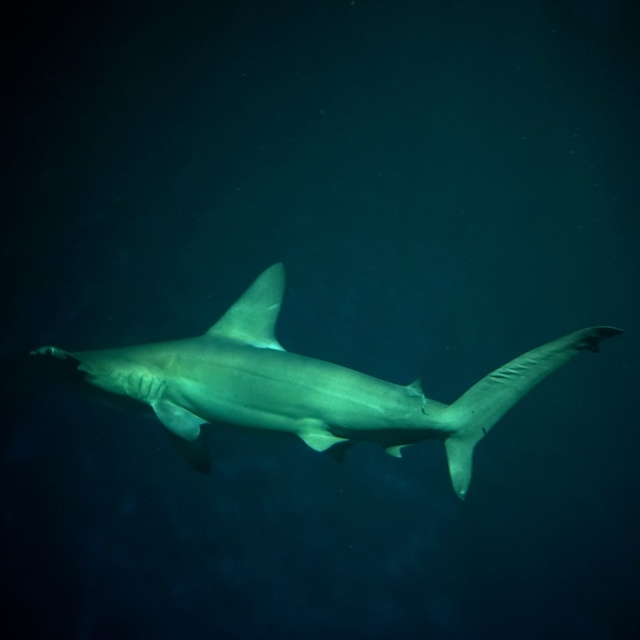Shark: (31, 261, 624, 496)
